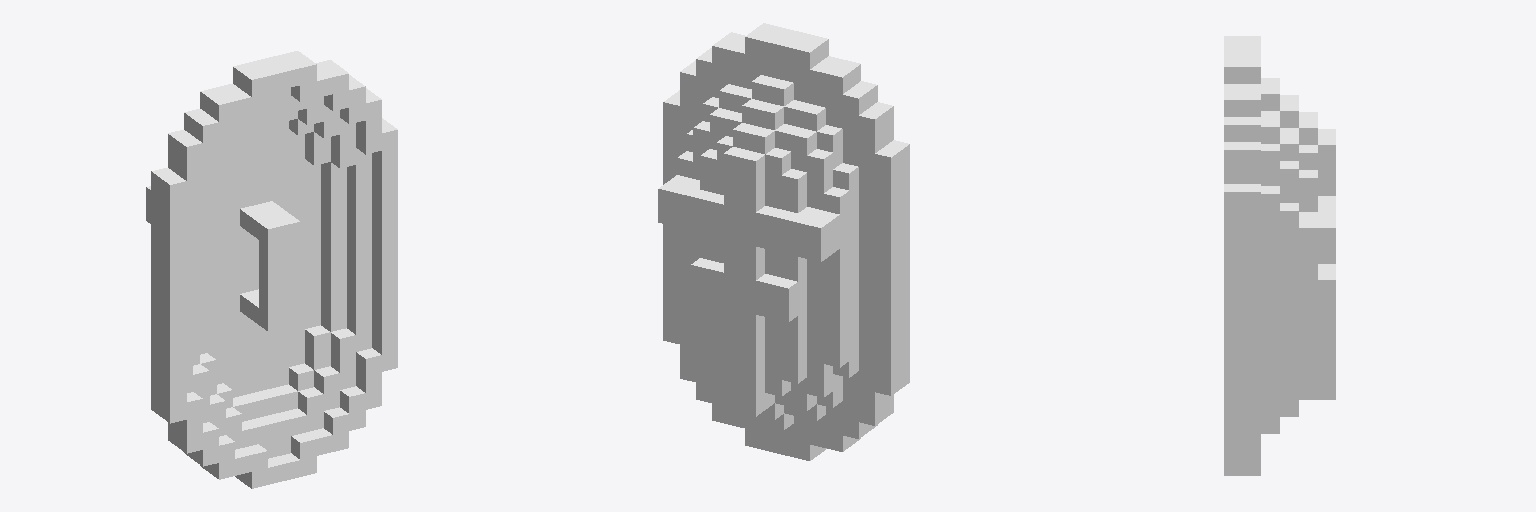
Rendered from shieldOval.vox.obj.
3 views of the same model, side by side, from view 1: azimuth 30°, elevation 25°; view 2: azimuth 150°, elevation 25°; view 3: azimuth 270°, elevation 25° (orthographic).
Parts seen in each view (by area): view 1: object 1; view 2: object 1; view 3: object 1.
Part boxes in pixels (x1,y1,x2,y2): object 1: (146,51,397,488); object 1: (658,23,909,460); object 1: (1224,36,1335,475).
Bounding box in the file's own units: 1.4 × 2.4 × 0.6.